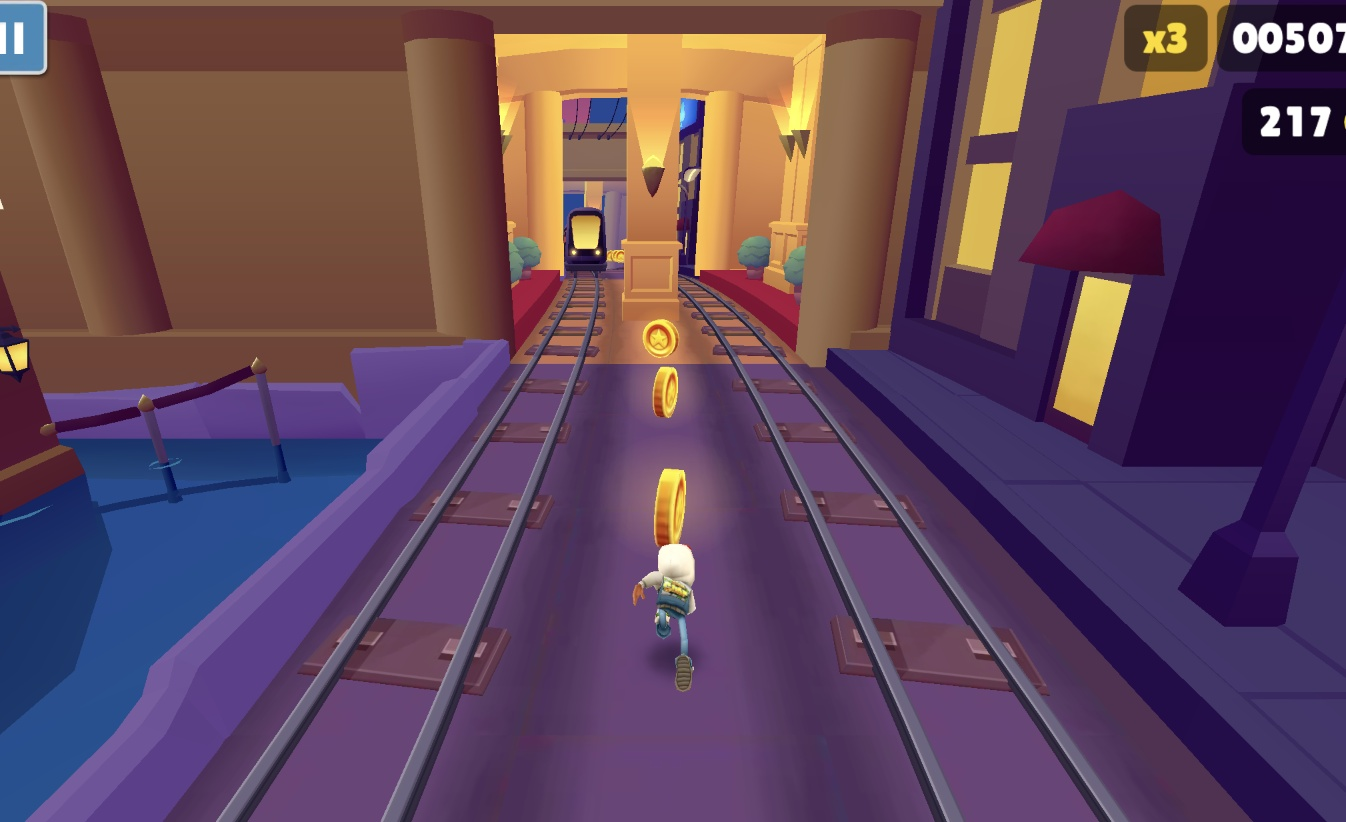pillar: (622, 42, 682, 316)
train: (560, 210, 606, 280)
